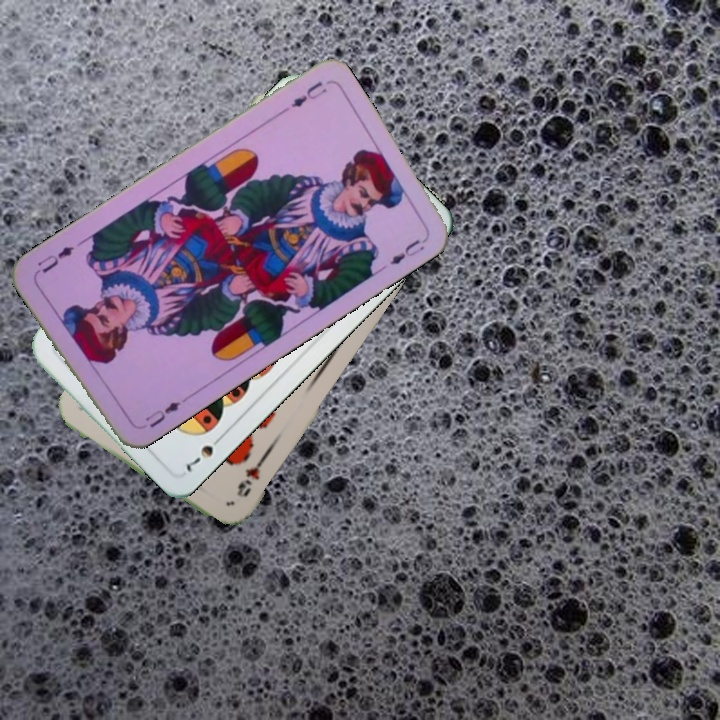EU: (141, 397, 183, 431), (287, 77, 330, 110)
H9: (232, 454, 268, 500)
S7: (181, 430, 227, 474)
